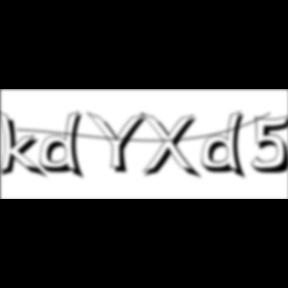X: (140, 112, 204, 182)
Y: (86, 110, 154, 176)
d: (40, 110, 90, 182), (202, 110, 252, 182)
k: (0, 108, 50, 181)
